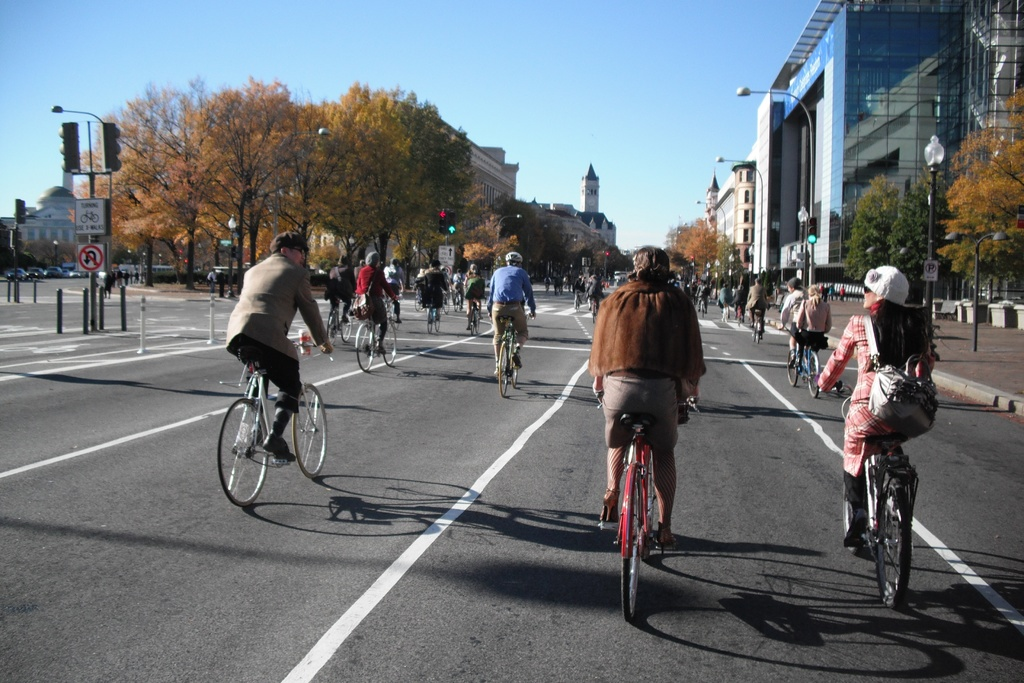Bike: (584, 382, 704, 627), (822, 382, 946, 612), (213, 334, 330, 507), (484, 304, 537, 401), (346, 295, 405, 376), (779, 319, 825, 397)
